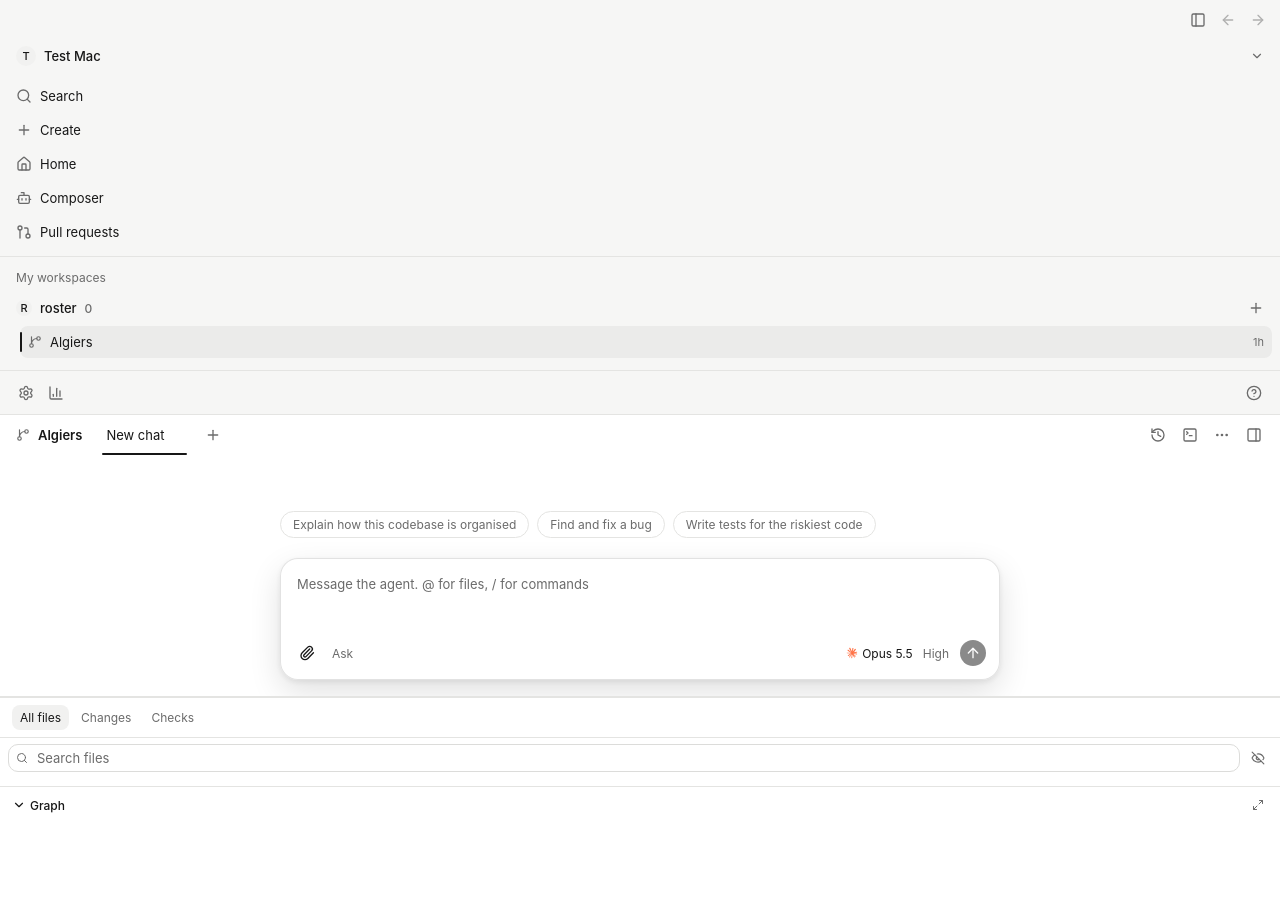
Test: changes › counts both kinds of changes, with the totals at the right and no note under them
Step 1. Click the tab "Changes" → x=106, y=718, box [73, 705, 140, 730]
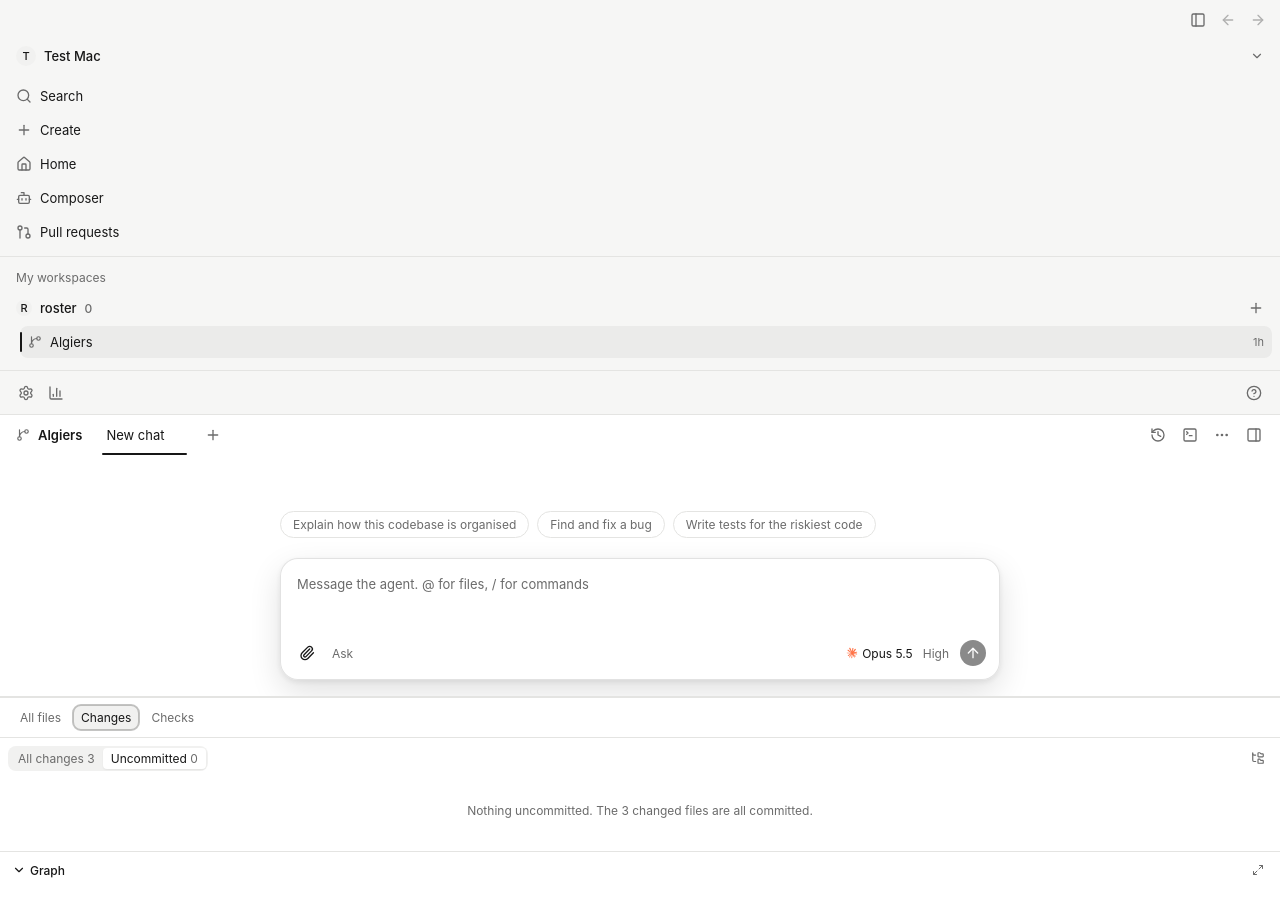
Step 2. Click the button "All changes 3" → x=56, y=758, box [10, 748, 103, 768]
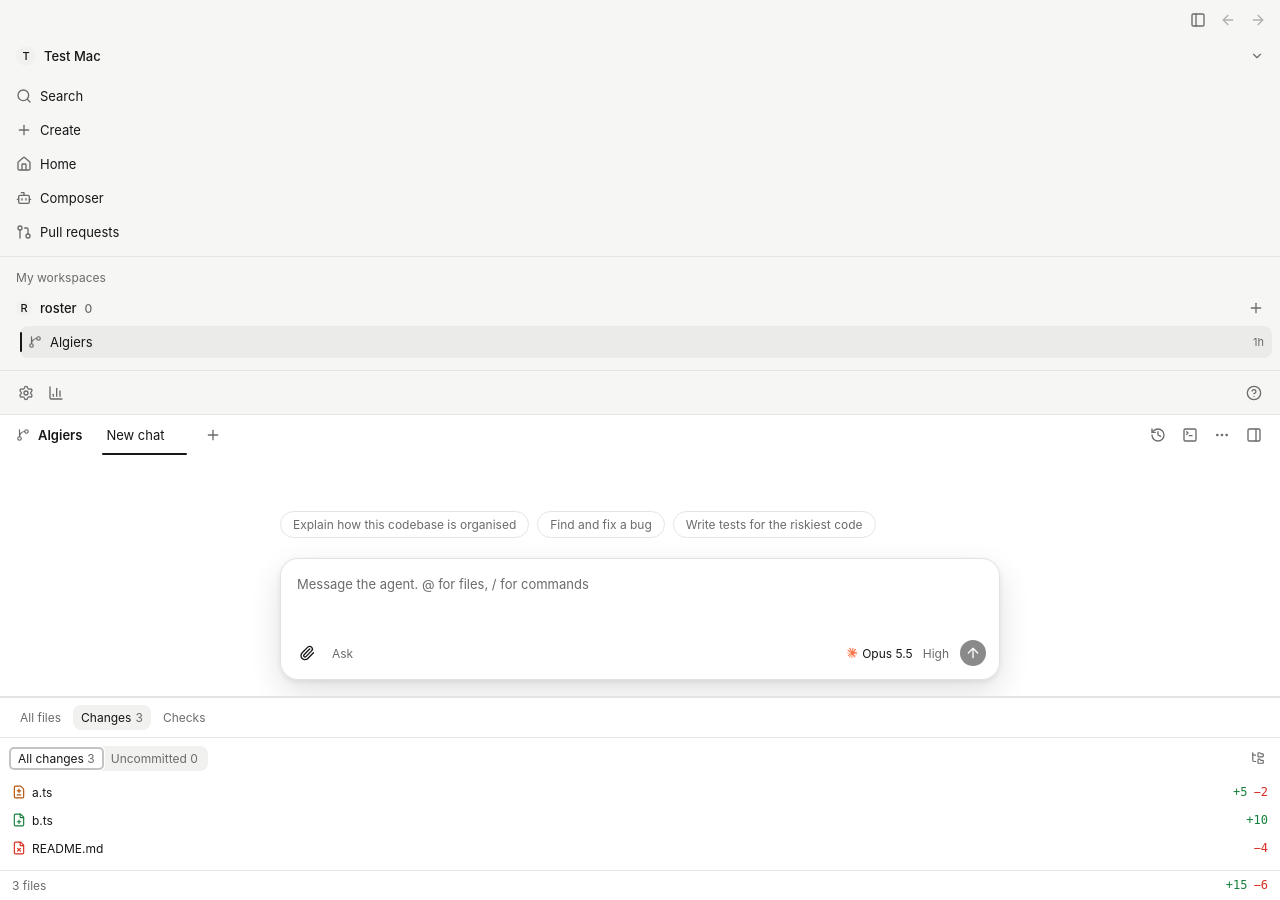
Check: the button "All changes 3" is shown, box [10, 748, 103, 768]
Check: the button "Uncommitted 0" is shown
Step 3. Click the button "Uncommitted 0" → x=154, y=758, box [103, 748, 206, 768]
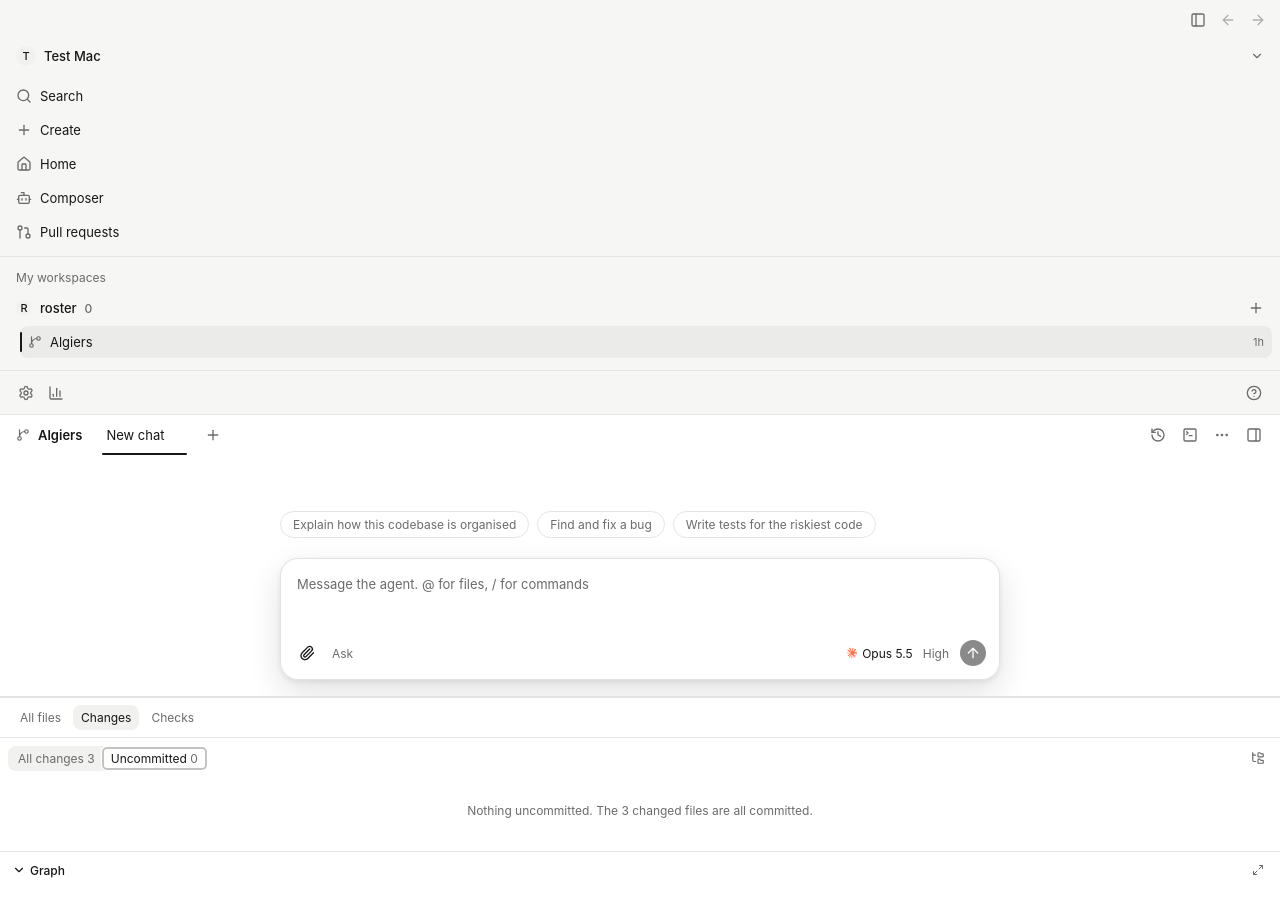
Check: the text "Nothing uncommitted. The 3 changed files are all committed." is shown, box [467, 803, 813, 818]
